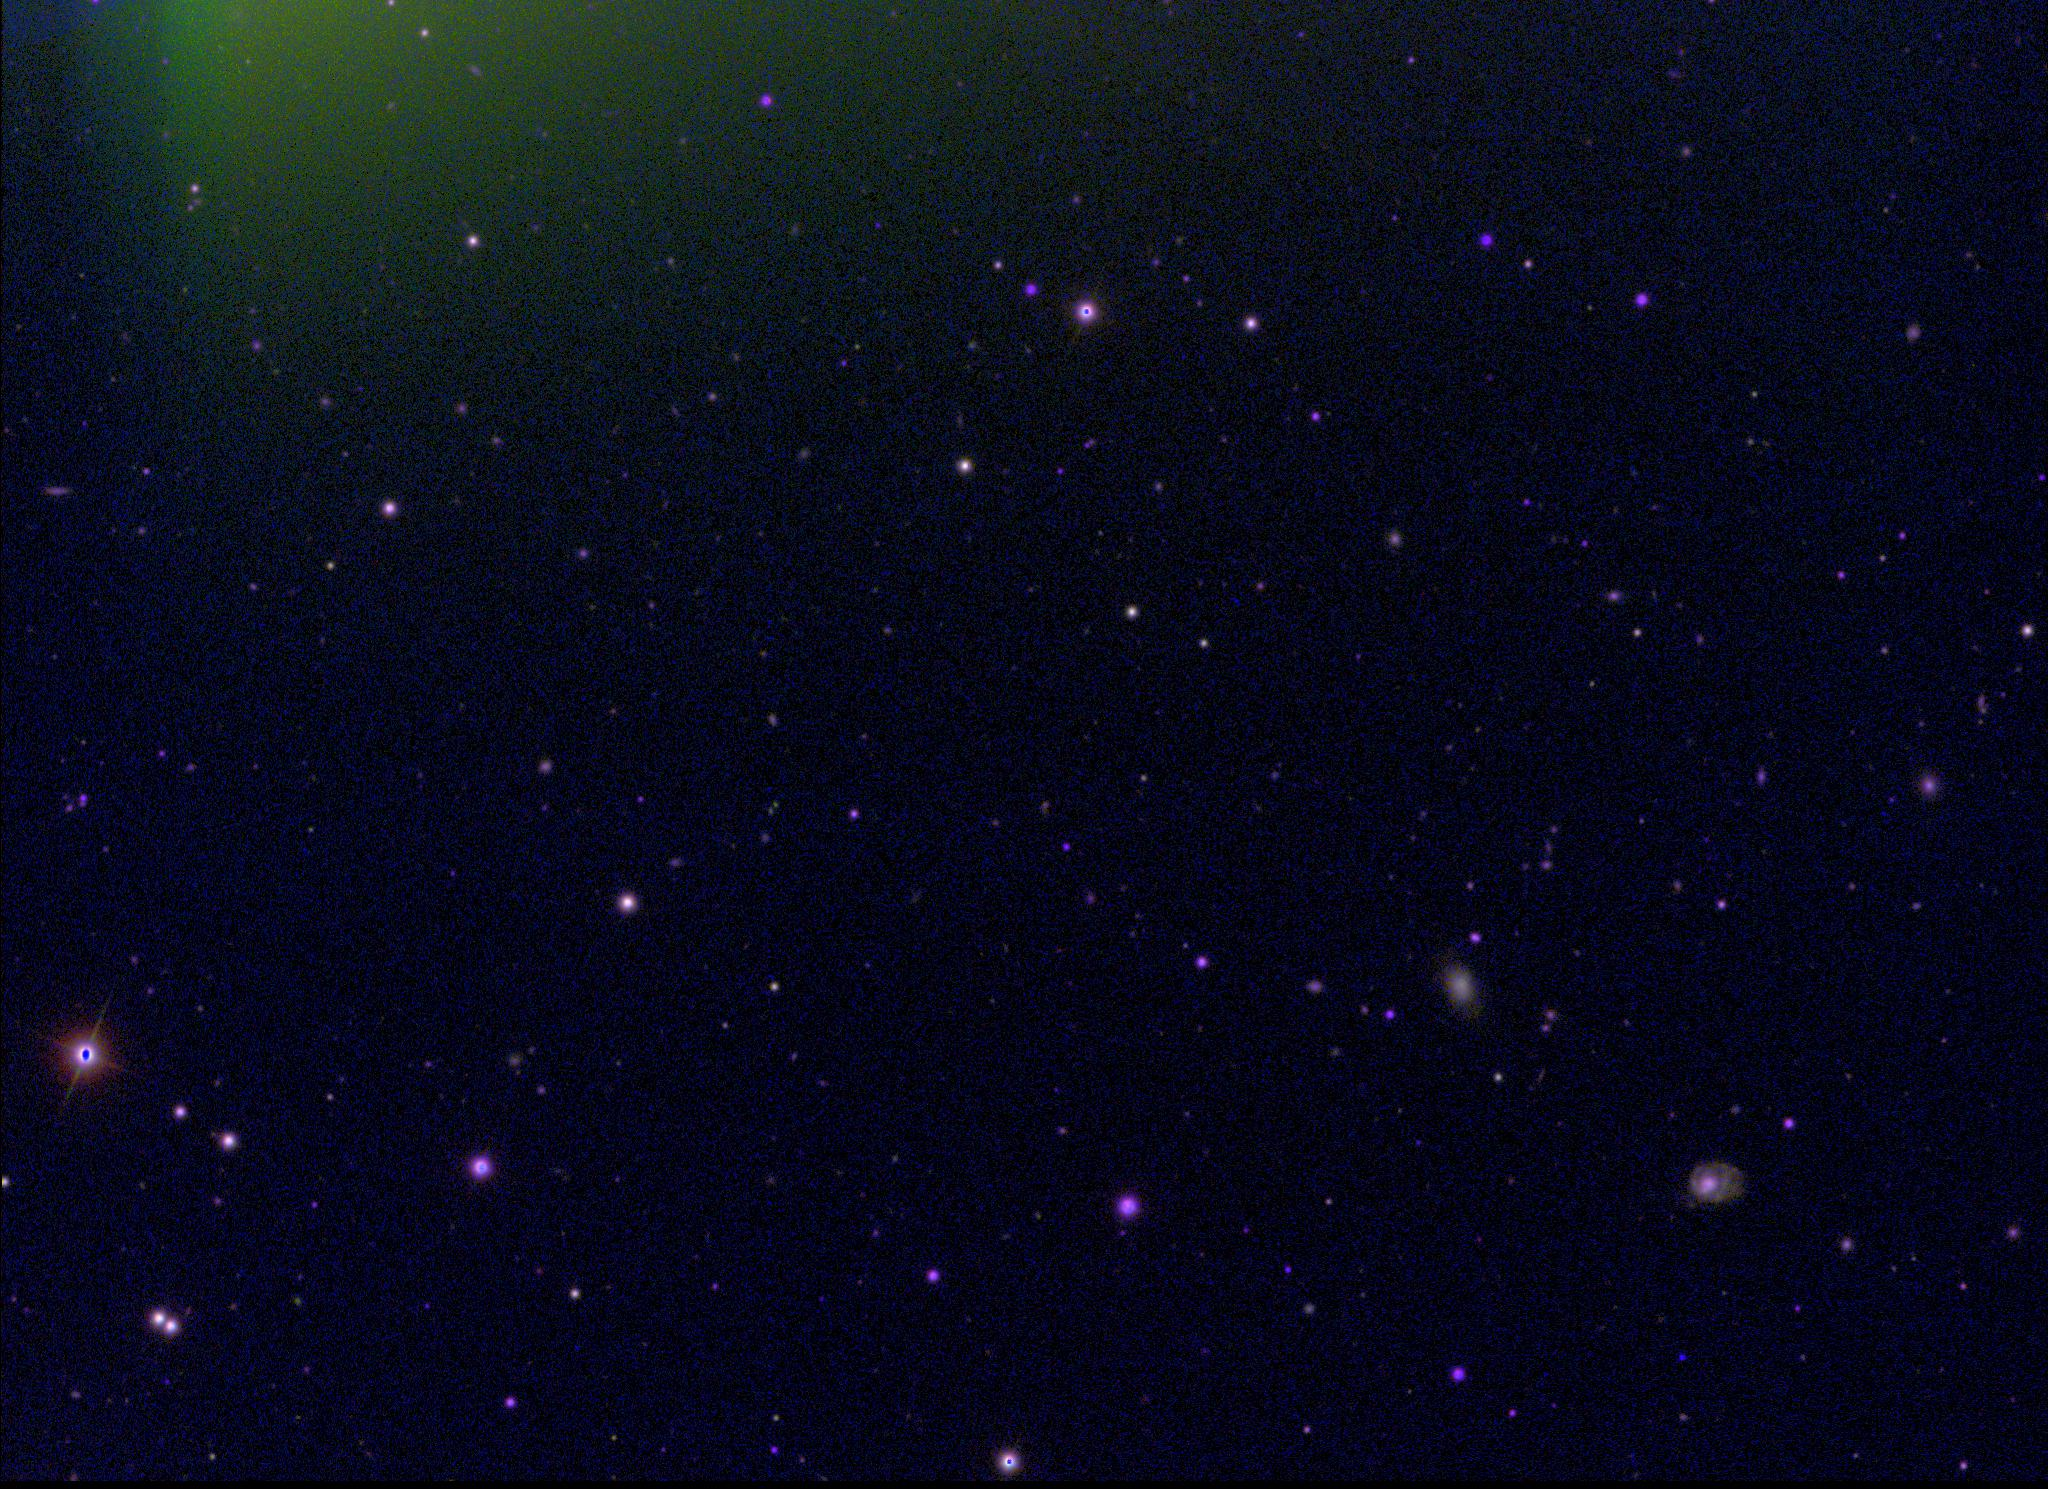L: (1674, 1351, 1689, 1365)
